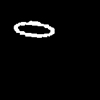chain: (14, 21, 53, 37)
